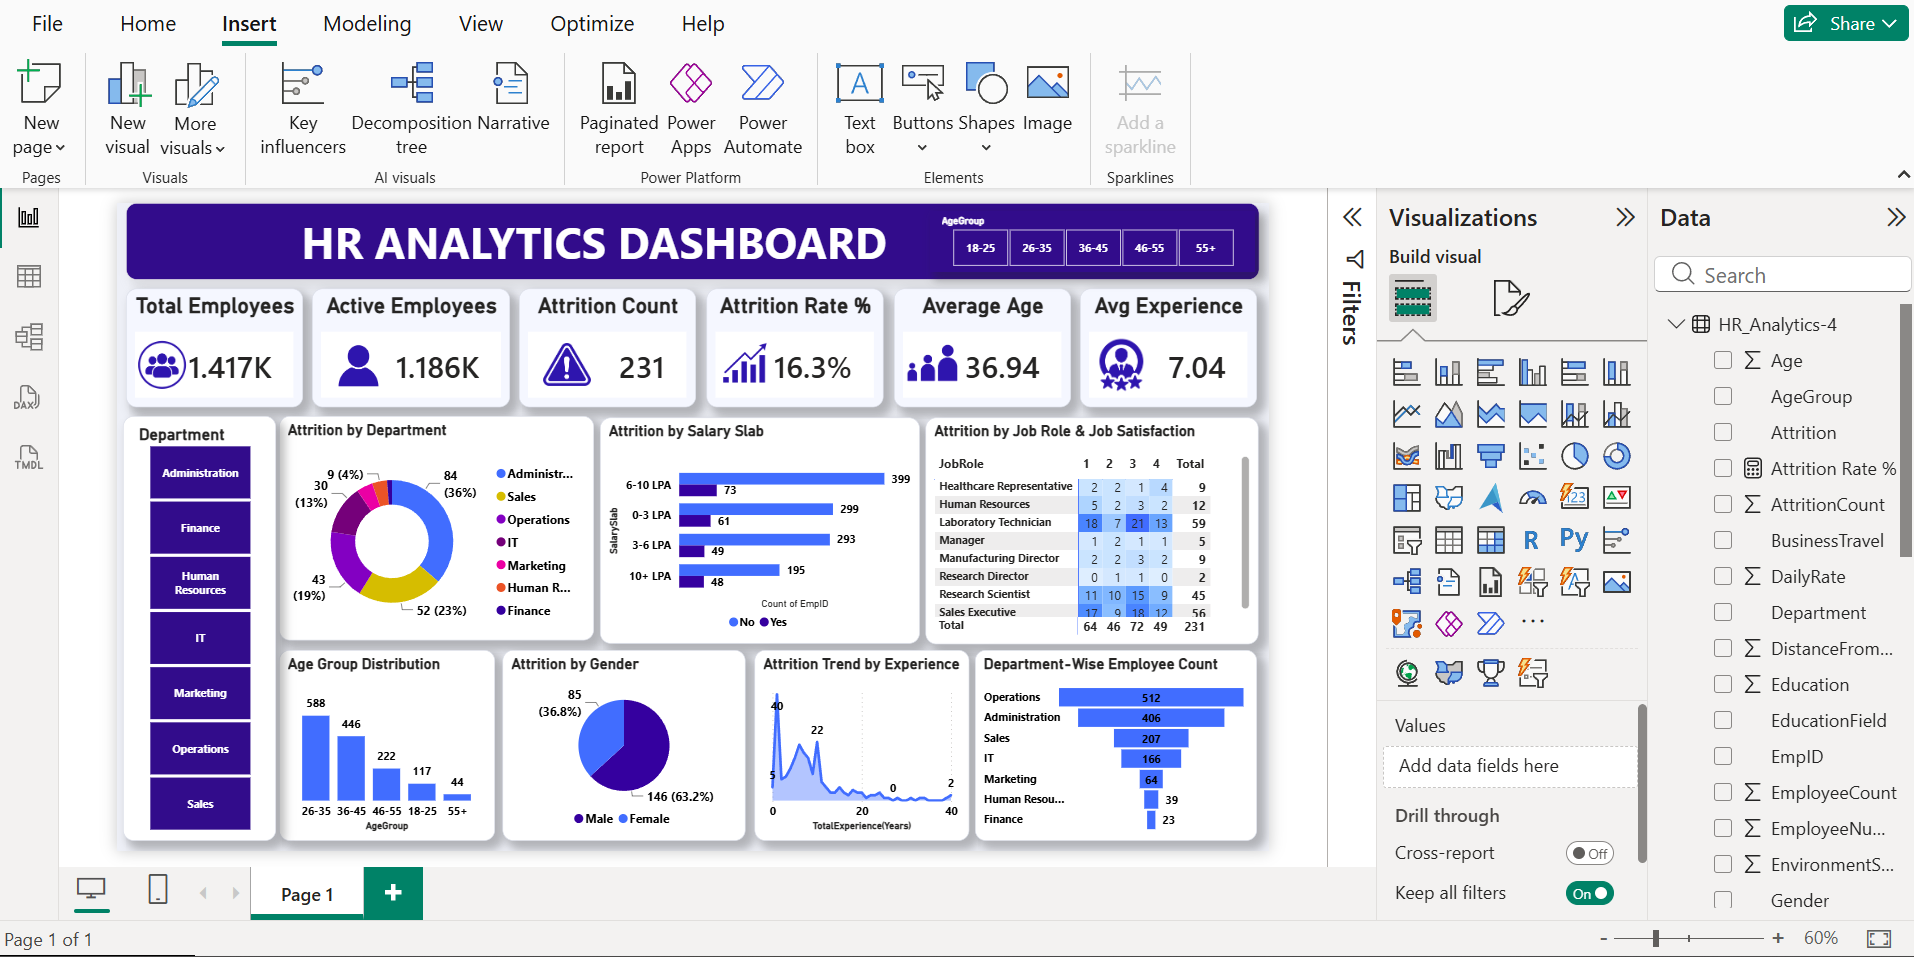

The dashboard page shown, as its layout file describes it:
{"tool":"powerbi","page":{"name":"Page 1","canvas":[1280,720],"ordinal":0},"visuals":[{"type":"textbox","box":[10,0,1259,85],"z":0},{"type":"cardVisual","title":"Total Employees","fields":{"Data":["CountNonNull(HR_Analytics-4.EmpID)"]},"box":[10,95.3,196.7,131.7],"z":1000},{"type":"cardVisual","title":"Active Employees","fields":{"Data":["CountNonNull(HR_Analytics-4.EmployeeCount)"]},"box":[216.7,95,220,131.7],"z":2000},{"type":"cardVisual","title":"Attrition Count","fields":{"Data":["Sum(HR_Analytics-4.AttritionCount)"]},"box":[446.7,95,196.7,131.7],"z":3000},{"type":"cardVisual","title":"Attrition Rate %","fields":{"Data":["HR_Analytics-4.Attrition Rate %"]},"box":[655,95,196.7,131.7],"z":4000},{"type":"cardVisual","title":"Average Age","fields":{"Data":["Avg(HR_Analytics-4.Age)"]},"box":[863.3,95,196.7,131.7],"z":5000},{"type":"cardVisual","title":"Avg Experience","fields":{"Data":["Avg(HR_Analytics-4.YearsatCompany)"]},"box":[1070,95,196.7,131.7],"z":6000},{"type":"donutChart","title":"Attrition by Department","fields":{"Category":["HR_Analytics-4.Department"],"Y":["Sum(HR_Analytics-4.AttritionCount)"]},"box":[180,236.7,350,249],"z":7000},{"type":"clusteredBarChart","title":"Attrition by Salary Slab","fields":{"Category":["HR_Analytics-4.SalarySlab"],"Y":["CountNonNull(HR_Analytics-4.EmpID)"],"Series":["HR_Analytics-4.Attrition"]},"box":[537,239,355,251],"z":8000},{"type":"pivotTable","title":"Attrition by Job Role & Job Satisfaction","fields":{"Rows":["HR_Analytics-4.JobRole"],"Values":["Sum(HR_Analytics-4.AttritionCount)"],"Columns":["HR_Analytics-4.JobSatisfaction"]},"box":[898.3,238.3,370,251.7],"z":9000},{"type":"columnChart","title":"Age Group Distribution","fields":{"Category":["HR_Analytics-4.AgeGroup"],"Y":["Sum(HR_Analytics-4.EmployeeCount)"]},"box":[180,496.7,240,211.7],"z":10000},{"type":"pieChart","title":"Attrition by Gender","fields":{"Category":["HR_Analytics-4.Gender"],"Y":["Sum(HR_Analytics-4.AttritionCount)"]},"box":[428.3,496.7,270,211.7],"z":10001},{"type":"areaChart","title":"Attrition Trend by Experience","fields":{"Category":["HR_Analytics-4.TotalExperience(Years)"],"Y2":["Sum(HR_Analytics-4.AttritionCount)"]},"box":[708.3,496.7,238.3,211.7],"z":10002},{"type":"funnel","title":"Department-Wise Employee Count","fields":{"Category":["HR_Analytics-4.Department"],"Y":["CountNonNull(HR_Analytics-4.EmpID)"]},"box":[953.3,496.7,313.3,211.7],"z":10003},{"type":"slicer","fields":{"Values":["HR_Analytics-4.Department"]},"box":[6.7,236.7,170,471.7],"z":10004},{"type":"slicer","fields":{"Values":["HR_Analytics-4.AgeGroup"]},"box":[903.3,8.3,361,68],"z":10005},{"type":"image","box":[5,151.7,90,56.7],"z":10006},{"type":"image","box":[241.7,155,53.3,48.3],"z":10007},{"type":"image","box":[471.7,148.3,56.7,61.7],"z":10008},{"type":"image","box":[671.7,150,51.7,55],"z":10009},{"type":"image","box":[876.7,146.7,58.3,61.7],"z":10010},{"type":"image","box":[1083.3,145,65,70],"z":10011}]}

Visuals, with their boxes on the page's 1280x720 design canvas (x1, y1, x2, y2). These are canvas units, not pixel positions in the 1914x957 screenshot, which may show the page scaled, cropped or inside an application window:
textbox: x1=10 y1=0 x2=1269 y2=85
"Total Employees" cardVisual: x1=10 y1=95 x2=207 y2=227
"Active Employees" cardVisual: x1=217 y1=95 x2=437 y2=227
"Attrition Count" cardVisual: x1=447 y1=95 x2=643 y2=227
"Attrition Rate %" cardVisual: x1=655 y1=95 x2=852 y2=227
"Average Age" cardVisual: x1=863 y1=95 x2=1060 y2=227
"Avg Experience" cardVisual: x1=1070 y1=95 x2=1267 y2=227
"Attrition by Department" donutChart: x1=180 y1=237 x2=530 y2=486
"Attrition by Salary Slab" clusteredBarChart: x1=537 y1=239 x2=892 y2=490
"Attrition by Job Role & Job Satisfaction" pivotTable: x1=898 y1=238 x2=1268 y2=490
"Age Group Distribution" columnChart: x1=180 y1=497 x2=420 y2=708
"Attrition by Gender" pieChart: x1=428 y1=497 x2=698 y2=708
"Attrition Trend by Experience" areaChart: x1=708 y1=497 x2=947 y2=708
"Department-Wise Employee Count" funnel: x1=953 y1=497 x2=1267 y2=708
slicer - HR_Analytics-4.Department: x1=7 y1=237 x2=177 y2=708
slicer - HR_Analytics-4.AgeGroup: x1=903 y1=8 x2=1264 y2=76
image: x1=5 y1=152 x2=95 y2=208
image: x1=242 y1=155 x2=295 y2=203
image: x1=472 y1=148 x2=528 y2=210
image: x1=672 y1=150 x2=723 y2=205
image: x1=877 y1=147 x2=935 y2=208
image: x1=1083 y1=145 x2=1148 y2=215
